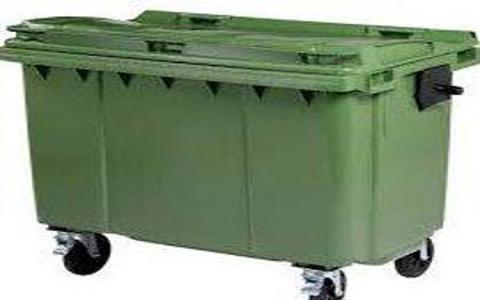Proper garbage: (3, 6, 480, 298)
